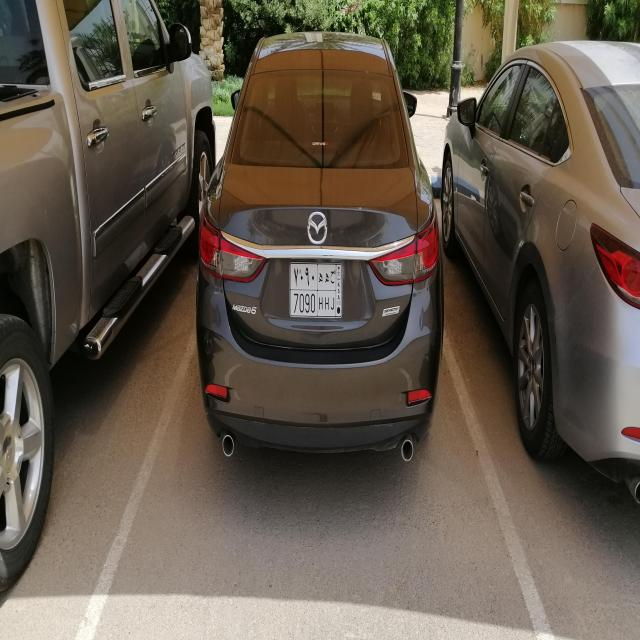license_plate: (288, 262, 342, 319)
